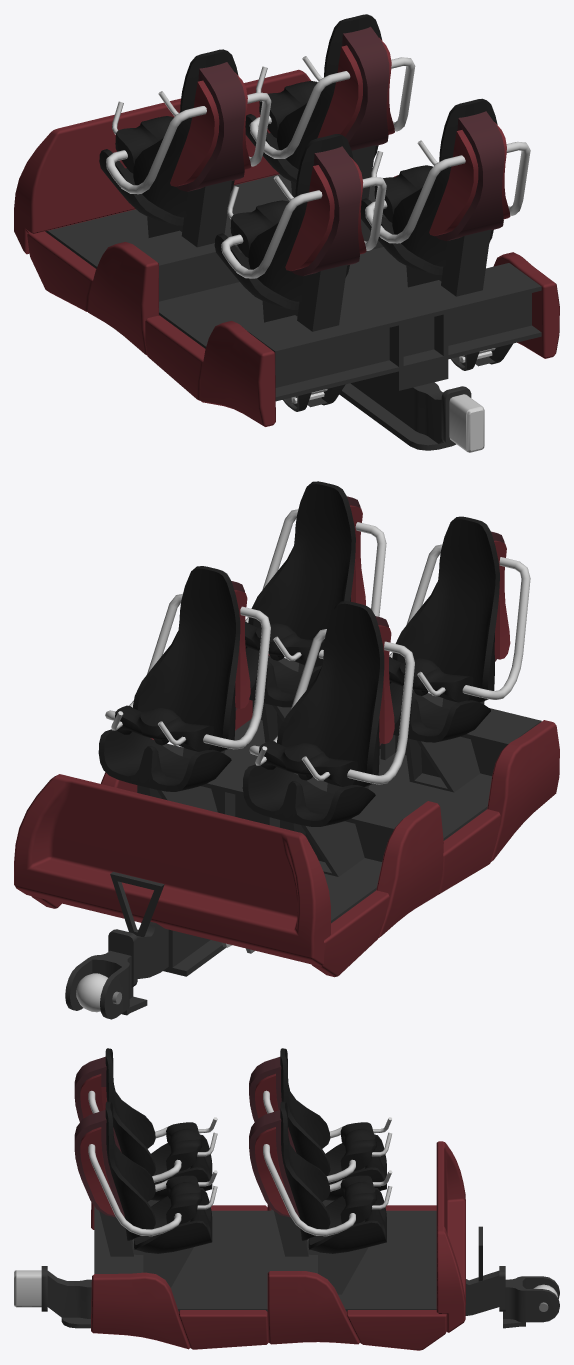
Rendered from LSM_BackCar.glb.
3 views of the same model, one above another, from view 1: azimuth 30°, elevation 25°; view 2: azimuth 150°, elevation 25°; view 3: azimuth 270°, elevation 25° (orthographic). The views are drawn at different scales.
Parts seen in each view (by area): view 1: LSM_Back; view 2: LSM_Back; view 3: LSM_Back.
Boxes of the visible parts, x1=… form: LSM_Back: x1=14, y1=14, x2=559, y2=452; LSM_Back: x1=14, y1=481, x2=559, y2=1019; LSM_Back: x1=14, y1=1048, x2=559, y2=1350.
Bounding box in the file's own units: 2.28 × 2.22 × 4.69.
1 material, 1 textured.
